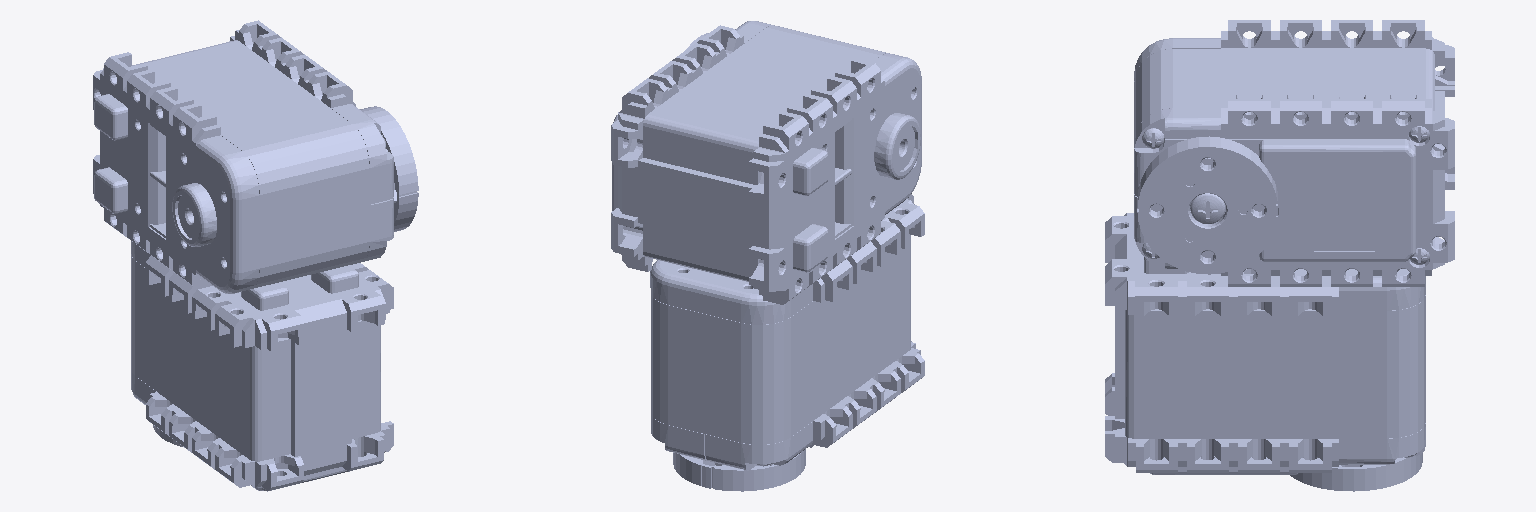
robot.urdf — humanoid:
<?xml version="1.0" ?>

<robot name="humanoid">
    <link name="foot_link">
        <inertial>
            <origin
            xyz="0.035 0.005 0.06"
            rpy="0 0 0" />
            <mass value="0.06" />
            <inertia
            ixx="8.5648E-05"
            ixy="5.4058E-21"
            ixz="-7.1621E-21"
            iyy="8.8358E-05"
            iyz="-3.7211E-06"
            izz="3.2986E-05" />
        </inertial>
        <visual>
            <origin
            xyz="0 0 0"
            rpy="0 0 0" />
            <geometry>
                <mesh filename="package://rocnikovy_projekt/meshes/foot_Link.STL" scale="0.001 0.001 0.001"/>
            </geometry>
            <material name="">
                <color rgba="0.79216 0.81961 0.93333 1" />
            </material>
        </visual>
        <collision>
            <origin
            xyz="0 0 0"
            rpy="0 0 0" />
            <geometry>
                <mesh filename="package://rocnikovy_projekt/meshes/foot_Link.STL" scale="0.001 0.001 0.001"/>
            </geometry>
        </collision>
    </link>

    <link name="hub1_Link">
        <inertial>
        <origin
        xyz="0 0 0"
        rpy="0 0 0" />
        <mass value="0.003" />
        <inertia
        ixx="8.5507E-08"
        ixy="1.5669E-16"
        ixz="-2.3686E-15"
        iyy="8.5924E-08"
        iyz="-1.1901E-11"
        izz="1.5714E-07" />
        </inertial>
        <visual>
            <origin
            xyz="0 0 0"
            rpy="0 0 0" />
            <geometry>
                <mesh filename="package://rocnikovy_projekt/meshes/hub_Link.STL" />
            </geometry>
            <material name="">
                <color rgba="0.79216 0.81961 0.93333 1" />
            </material>
        </visual>
        <collision>
            <origin
            xyz="0 0 0"
            rpy="0 0 0" />
            <geometry>
                <mesh filename="package://rocnikovy_projekt/meshes/hub_Link.STL" />
            </geometry>
        </collision>
    </link>

    <joint name="hub1_joint" type="fixed">
        <origin
        xyz="0.035 0.053 0.045"
        rpy="-3.1415 0 0" />
        <parent link="foot_link" />
        <child link="hub1_Link" />
        <axis xyz="0 0 0" />
    </joint>

    <link name="servo1_Link">
        <inertial>
            <origin
            xyz="0 0 -0.01"
            rpy="0 0 0" />
            <mass value="0.0516" />
            <inertia
            ixx="1.4306E-05"
            ixy="-1.2844E-08"
            ixz="1.8664E-09"
            iyy="7.8161E-06"
            iyz="2.3787E-07"
            izz="1.2381E-05" />
        </inertial>
        <visual>
            <origin
            xyz="0 0 0"
            rpy="0 0 0" />
            <geometry>
                <mesh filename="package://rocnikovy_projekt/meshes/base_link.STL" />
            </geometry>
            <material name="">
                <color rgba="0.79216 0.81961 0.93333 1" />
            </material>
        </visual>
        <collision>
            <origin
            xyz="0 0 0"
            rpy="0 0 0" />
            <geometry>
                <mesh filename="package://rocnikovy_projekt/meshes/base_link.STL" />
            </geometry>
        </collision>
    </link>

    <joint name="servo1_joint" type="revolute">
        <origin
        xyz="0 0 -0.0115"
        rpy="-1.5708 0 3.1415" />
        <parent link="hub1_Link" />
        <child link="servo1_Link" />
        <axis xyz="0 1 0" />
        <limit
        lower="-0.3490"
        upper="0.3490"
        effort="2"
        velocity="10" />
    </joint>

        <link name="servo2_Link">
            <inertial>
                <origin
                xyz="0 0 -0.01"
                rpy="0 0 0" />
                <mass value="0.0516" />
                <inertia
                ixx="1.4306E-05"
                ixy="-1.2843E-08"
                ixz="1.8664E-09"
                iyy="7.8161E-06"
                iyz="2.3787E-07"
                izz="1.2381E-05" />
            </inertial>
            <visual>
                <origin
                xyz="0 0 0"
                rpy="0 0 0" />
                <geometry>
                    <mesh filename="package://rocnikovy_projekt/meshes/base_link.STL" />
                </geometry>
                <material name="">
                    <color rgba="0.79216 0.81961 0.93333 1" />
                </material>
            </visual>
            <collision>
                <origin
                xyz="0 0 0"
                rpy="0 0 0" />
                <geometry>
                    <mesh filename="package://rocnikovy_projekt/meshes/base_link.STL" />
                </geometry>
            </collision>
        </link>

        <joint name="servo2_joint" type="fixed">
            <origin
            xyz="0 0.032 -0.0225"
            rpy="3.1415 0 1.5708" />
            <parent
            link="servo1_Link" />
            <child
            link="servo2_Link" />
            <axis
            xyz="0 0 0" />
            </joint>


        <link name="socket_Link">
            <inertial>
                <origin
                xyz="0 0 0"
                rpy="0 0 0" />
                <mass value="0.0032352" />
                <inertia
                ixx="4.8034E-07"
                ixy="1.9832E-10"
                ixz="1.3579E-22"
                iyy="6.6054E-07"
                iyz="1.1488E-22"
                izz="2.0157E-07" />
            </inertial>
            <visual>
                <origin
                xyz="0 0 0"
                rpy="0 0 0" />
                <geometry>
                    <mesh filename="package://rocnikovy_projekt/meshes/socket_Link.STL" scale="0.001 0.001 0.001"/>
                </geometry>
                <material name="">
                    <color rgba="0.79216 0.81961 0.93333 1" />
                </material>
            </visual>
            <collision>
                <origin
                xyz="0 0 0"
                rpy="0 0 0" />
                <geometry>
                    <mesh filename="package://rocnikovy_projekt/meshes/socket_Link.STL" scale="0.001 0.001 0.001"/>
                </geometry>
            </collision>
        </link>

        <joint name="socket_joint" type="fixed">
            <origin
            xyz="0.019 -0.019 -0.01"
            rpy="0 1.5708 1.5708" />
            <parent link="servo2_Link" />
            <child link="socket_Link" />
            <axis xyz="0 0 0" />
        </joint>

    <link name="hub2_Link">
        <inertial>
            <origin
            xyz="0 0 0"
            rpy="0 0 0" />
            <mass value="0.003" />
            <inertia
            ixx="8.5507E-08"
            ixy="-1.517E-16"
            ixz="-4.3881E-15"
            iyy="8.5924E-08"
            iyz="-1.1905E-11"
            izz="1.5714E-07" />
        </inertial>
        <visual>
            <origin
            xyz="0 0 0"
            rpy="0 0 0" />
            <geometry>
                <mesh filename="package://rocnikovy_projekt/meshes/hub_Link.STL" />
            </geometry>
            <material name="">
                <color rgba="0.79216 0.81961 0.93333 1" />
            </material>
        </visual>
        <collision>
            <origin
            xyz="0 0 0"
            rpy="0 0 0" />
            <geometry>
                <mesh filename="package://rocnikovy_projekt/meshes/hub_Link.STL" />
            </geometry>
        </collision>
    </link>

    <joint name="hub2_joint" type="revolute">
        <origin
        xyz="0 -0.0115 0"
        rpy="1.5708 0 0" />
        <parent link="servo2_Link" />
        <child link="hub2_Link" />
        <axis xyz="0 0 -1" />
        <limit
        lower="-0.785"
        upper="0.6412"
        effort="2"
        velocity="8" />
    </joint>

    <link name="shin_Link">
        <inertial>
            <origin
            xyz="0 0 0"
            rpy="0 0 0" />
            <mass value="0.07195" />
            <inertia
            ixx="0.00010985"
            ixy="-1.8144E-12"
            ixz="5.1258E-12"
            iyy="8.2529E-05"
            iyz="-2.9834E-08"
            izz="3.6595E-05" />
        </inertial>
        <visual>
            <origin
            xyz="0 0 0"
            rpy="0 0 0" />
            <geometry>
                <mesh filename="package://rocnikovy_projekt/meshes/shin_Link.STL" scale="0.001 0.001 0.001" />
            </geometry>
            <material name="">
                <color rgba="0.79216 0.81961 0.93333 1" />
            </material>
        </visual>
        <collision>
            <origin
            xyz="0 0 0"
            rpy="0 0 0" />
            <geometry>
                <mesh filename="package://rocnikovy_projekt/meshes/shin_Link.STL" scale="0.001 0.001 0.001" />
            </geometry>
        </collision>
    </link>

    <joint name="shin_joint" type="fixed">
        <origin
        xyz="-0.019 -0.1284 0.0169"
        rpy="-1.5708 0 0" />
        <parent link="hub2_Link" />
        <child link="shin_Link" />
        <axis xyz="0 0 0" />
    </joint>

    <transmission name="trans_hub1_joint">
          <type>transmission_interface/SimpleTransmission</type>
          <joint name="servo1_joint">
            <hardwareInterface>hardware_interface/PositionJointInterface</hardwareInterface>
          </joint>
          <actuator name="motor1_hub_joint">
            <hardwareInterface>hardware_interface/PositionJointInterface</hardwareInterface>
            <mechanicalReduction>1</mechanicalReduction>
          </actuator>
    </transmission>

    <transmission name="trans_hub2_joint">
        <type>transmission_interface/SimpleTransmission</type>
        <joint name="hub2_joint">
            <hardwareInterface>hardware_interface/PositionJointInterface</hardwareInterface>
        </joint>
        <actuator name="motor2_hub_joint">
            <hardwareInterface>hardware_interface/PositionJointInterface</hardwareInterface>
            <mechanicalReduction>1</mechanicalReduction>
        </actuator>
    </transmission>


    <gazebo>
    <plugin name="gazebo_ros_control" filename="libgazebo_ros_control.so">
        <robotNamespace>/humanoid</robotNamespace>
    </plugin>
  </gazebo>
</robot>

--- What the picture shows (computed from the rendered views, not written in the file) ---
The picture shows the robot from 3 angles, left to right: view 1: azimuth 30°, elevation 25°; view 2: azimuth 150°, elevation 25°; view 3: azimuth 270°, elevation 25°; orthographic projection.
Model humanoid with 7 links and 6 joints (2 revolute, 4 fixed), rooted at foot_link, posed every joint at zero.
Visible links, largest first — view 1: servo2_Link, servo1_Link, hub2_Link; view 2: servo2_Link, servo1_Link, hub1_Link; view 3: servo2_Link, servo1_Link, hub2_Link, hub1_Link.
Link boxes in pixels (x1,y1,x2,y2): servo2_Link: (93, 20, 393, 293); servo1_Link: (131, 241, 393, 491); hub2_Link: (360, 106, 418, 231); servo2_Link: (611, 21, 921, 304); servo1_Link: (650, 194, 924, 470); hub1_Link: (673, 449, 805, 491); servo2_Link: (1134, 20, 1454, 286); servo1_Link: (1105, 213, 1425, 474); hub2_Link: (1137, 136, 1277, 274); hub1_Link: (1290, 453, 1422, 491).
Size in the robot's own frame: 0.0401 by 0.0545 by 0.0691 metres.
Meshes: 5 distinct files referenced, 4 mesh visuals loaded (2 binary STL); not drawn: 1 (reference not matched to a file when rendering), 2 (file found but could not be loaded).